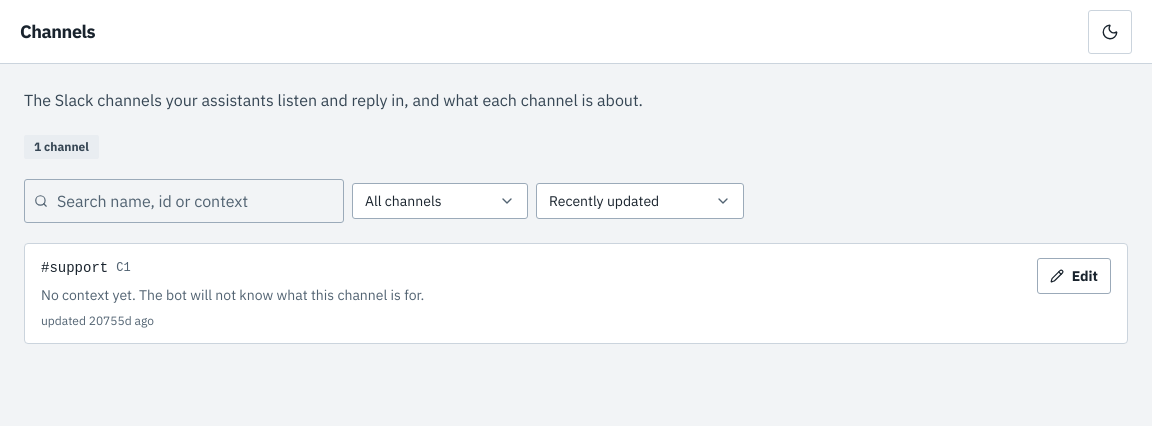
Test case: ChannelsPanel › says so when nothing matches
Step 1. Type "nothing-like-this" into the field with test id "channel-search" → (184, 201), box [24,179,344,223]
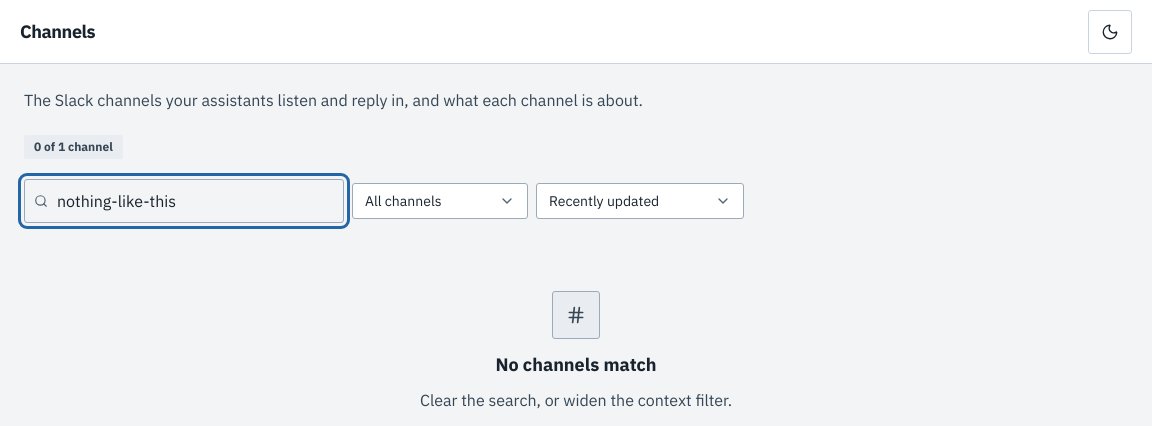
Check: the text "No channels match" is shown, box [495,351,656,379]
